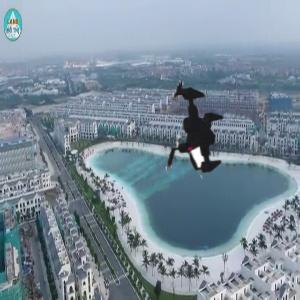drone: (118, 60, 261, 203)
